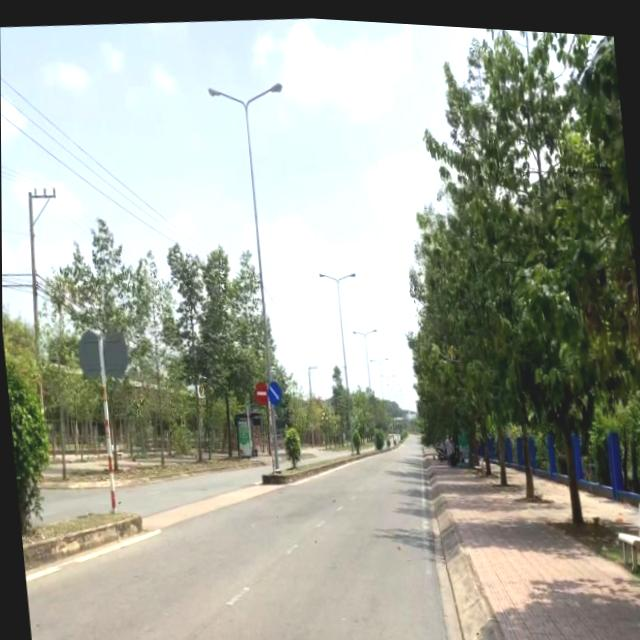Cam di nguoc chieu: (253, 376, 268, 402)
Vong chuong ngai vat sang phai: (265, 376, 281, 402)
